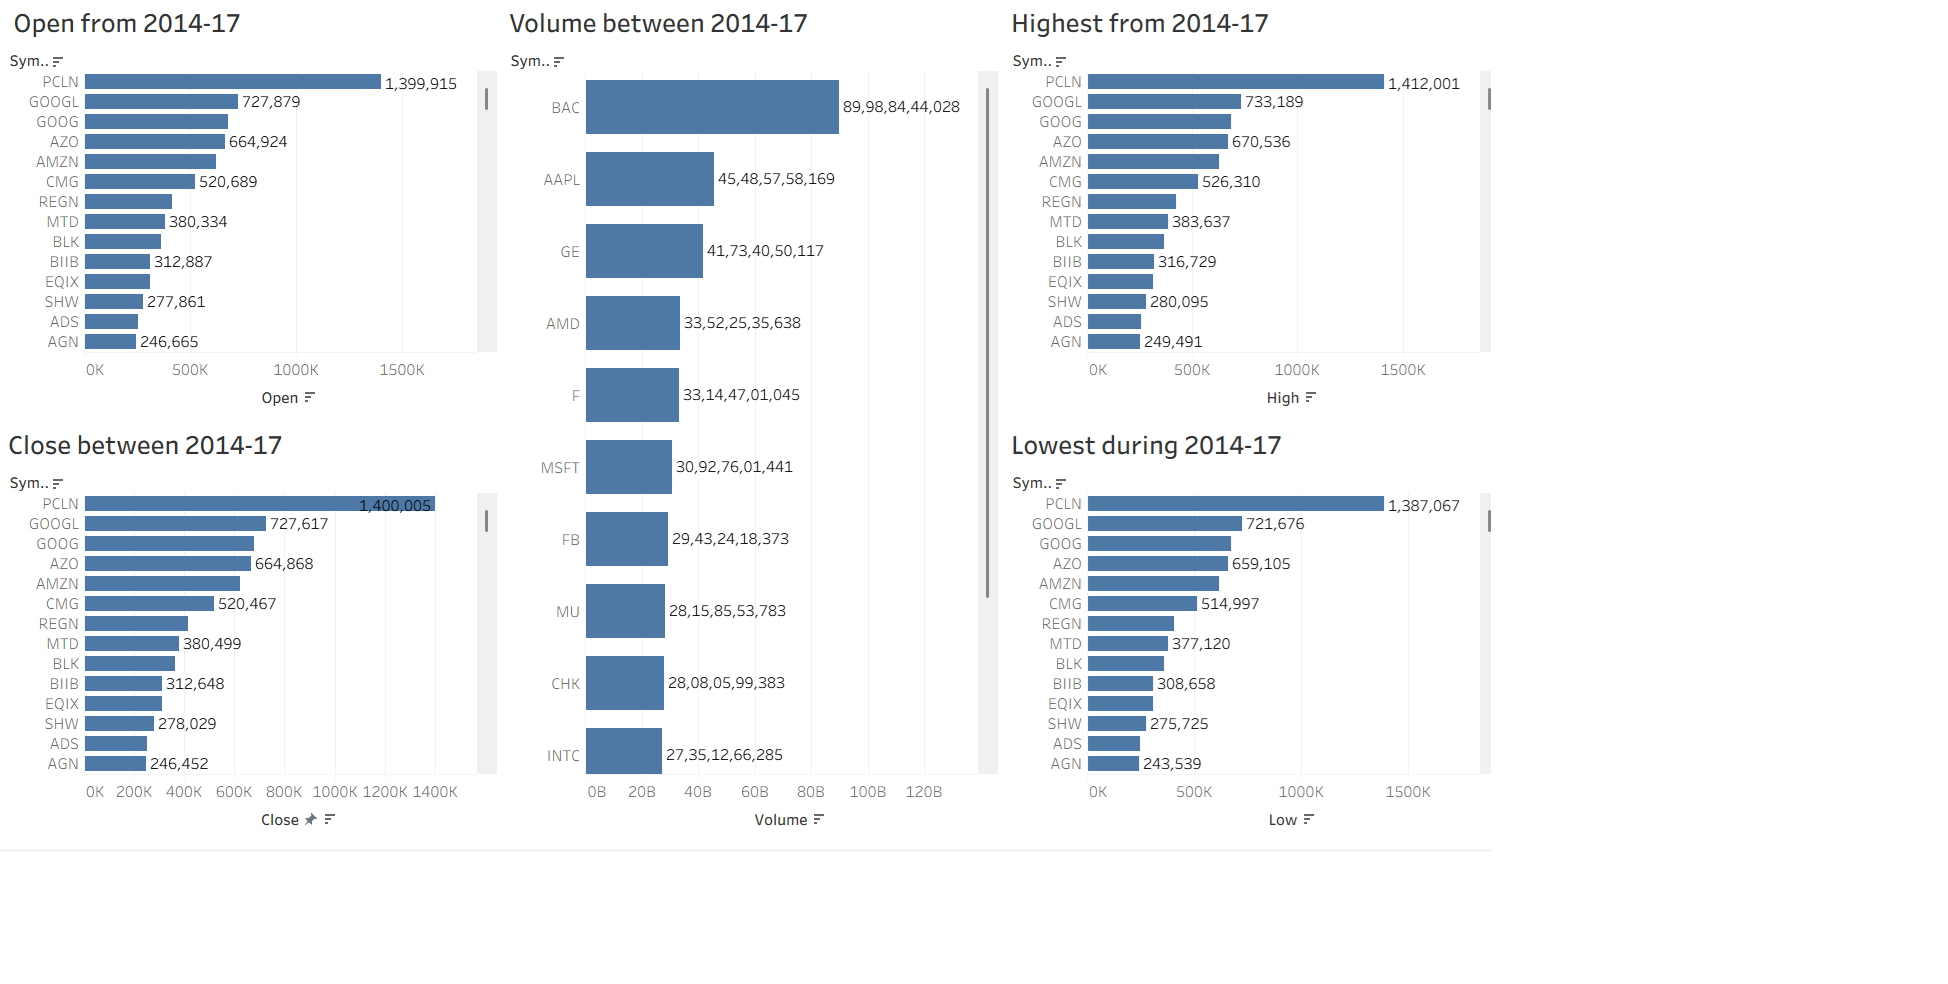

The page's visual inventory and layout, read from the dashboard file:
{"tool":"tableau","page":{"name":"The conclusion","canvas":[1000,1000],"units":"permille","ordinal":0},"visuals":[{"type":"worksheet","title":"open from 2014-17","mark":"Automatic","rows":["symbol"],"cols":["open"],"box":[5.3,9.3,329.8,490.7]},{"type":"worksheet","title":"volume between 2014-17","mark":"Automatic","rows":["symbol"],"cols":["volume"],"box":[335.1,9.3,329.8,981.4]},{"type":"worksheet","title":"Highest from 2014-17","mark":"Automatic","rows":["symbol"],"cols":["high"],"box":[664.9,9.3,329.8,490.7]},{"type":"worksheet","title":"Close between 2014-17","mark":"Automatic","rows":["symbol"],"cols":["close"],"box":[5.3,500,329.8,490.7]},{"type":"worksheet","title":"Lowest during 2014-17","mark":"Automatic","rows":["symbol"],"cols":["low"],"box":[664.9,500,329.8,490.7]}]}

Visuals, with their boxes on the dashboard's canvas, which has no fixed pixel size, in thousandths of its width and height (x1, y1, x2, y2). These are canvas units, not pixel positions in the 1948x984 screenshot, which may show the page scaled, cropped or inside an application window:
"open from 2014-17" worksheet: detection(5, 9, 335, 500)
"volume between 2014-17" worksheet: detection(335, 9, 665, 991)
"Highest from 2014-17" worksheet: detection(665, 9, 995, 500)
"Close between 2014-17" worksheet: detection(5, 500, 335, 991)
"Lowest during 2014-17" worksheet: detection(665, 500, 995, 991)
